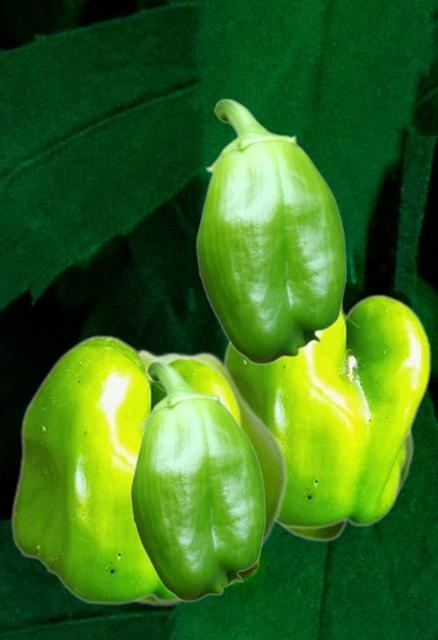bell_pepper: (10, 334, 240, 604), (220, 291, 430, 528), (195, 98, 346, 364), (132, 348, 287, 606), (129, 360, 265, 601), (279, 433, 413, 541)
